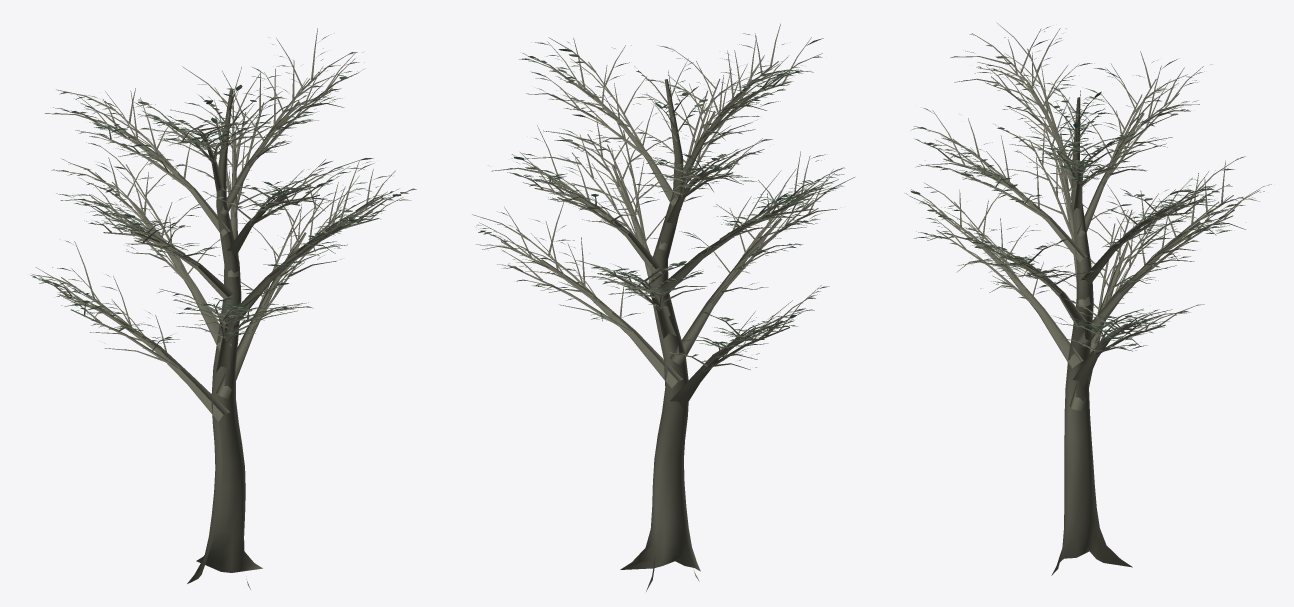
3 views of the same model, side by side, from view 1: azimuth 30°, elevation 25°; view 2: azimuth 150°, elevation 25°; view 3: azimuth 270°, elevation 25° (orthographic). The views are drawn at different scales.
Parts seen in each view (by area): view 1: branches, leaves; view 2: branches, leaves; view 3: branches, leaves.
Boxes of the visible parts, left/top/right/bottom form: branches: left=32, top=28, right=414, bottom=589; leaves: left=30, top=34, right=416, bottom=349; branches: left=472, top=23, right=854, bottom=591; leaves: left=475, top=33, right=844, bottom=367; branches: left=909, top=22, right=1263, bottom=575; leaves: left=905, top=26, right=1271, bottom=351.
Size of the model in its own units: 6.02 by 8.71 by 5.94.
